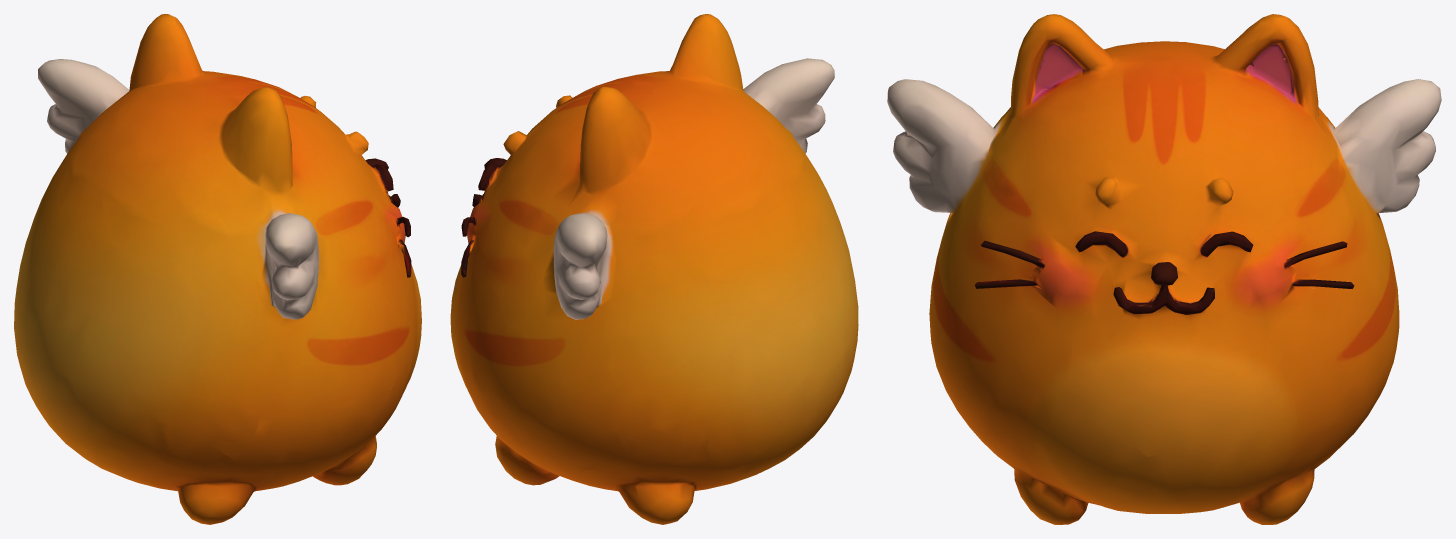
Rendered from GatoNaranja1.fbx.
3 views of the same model, side by side, from view 1: azimuth 30°, elevation 25°; view 2: azimuth 150°, elevation 25°; view 3: azimuth 270°, elevation 25° (orthographic). The views are drawn at different scales.
Visible parts, largest first — view 1: tripo_node_1a2ca42c; view 2: tripo_node_1a2ca42c; view 3: tripo_node_1a2ca42c.
Part boxes in pixels (x1=…): tripo_node_1a2ca42c: x1=14, y1=14, x2=421, y2=524; tripo_node_1a2ca42c: x1=450, y1=14, x2=858, y2=524; tripo_node_1a2ca42c: x1=887, y1=14, x2=1441, y2=524.
Size of the model in its own units: 0.835 by 0.9284 by 1.
Materials: 1 (1 with a texture image).
